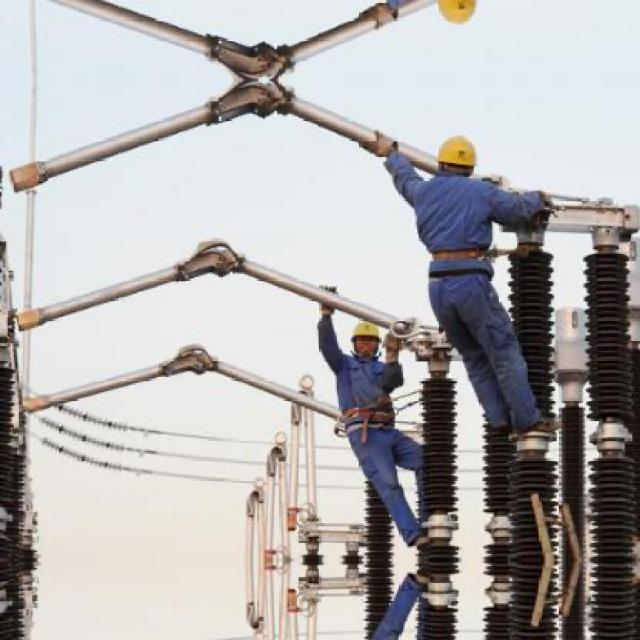helmet: (434, 129, 478, 182), (434, 0, 480, 32), (349, 321, 386, 357)
